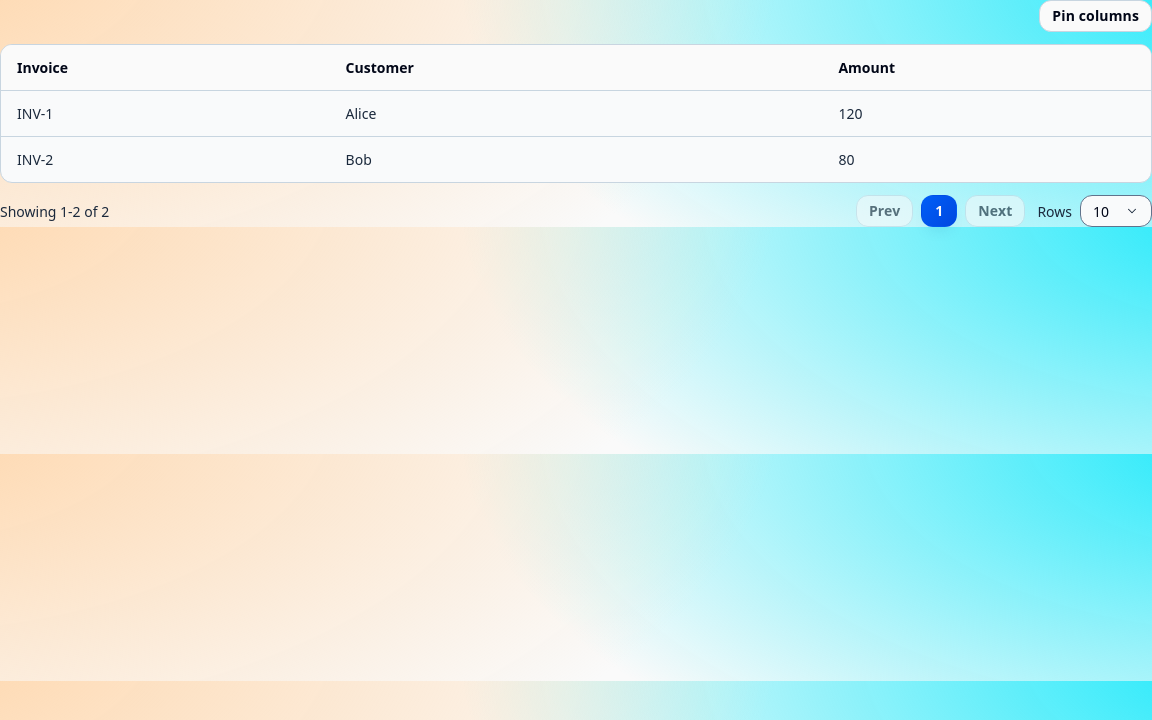
Scenario: DataTableV2 a11y › has no detectable accessibility violations with pinning controls open
This screenshot has width=1152, height=720.
Click the button "Pin columns". click: (1096,16)
box: top-left (1039, 0), bottom-right (1151, 32)
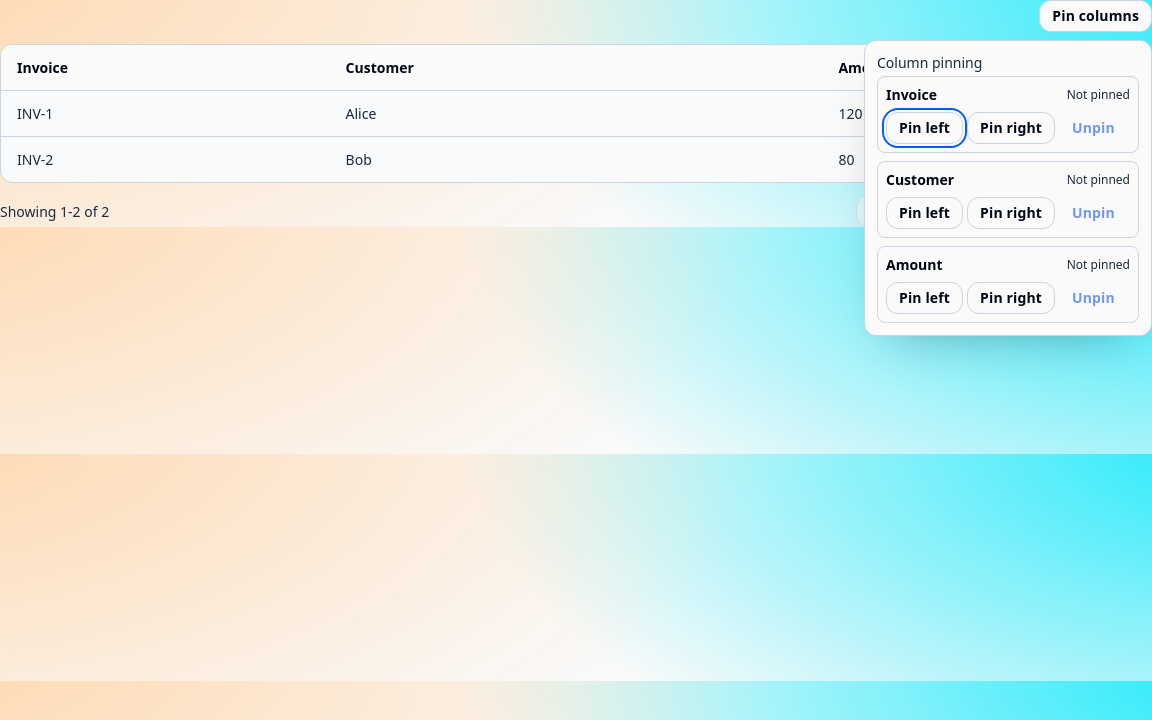
Check: the button with aria-label "Pin column Customer left" is shown, box top-left (886, 197), bottom-right (963, 229)
